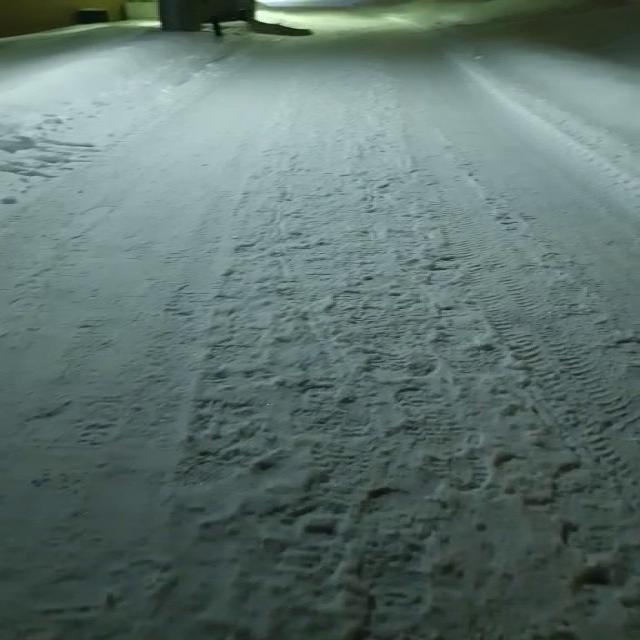path: (0, 0, 640, 640)
